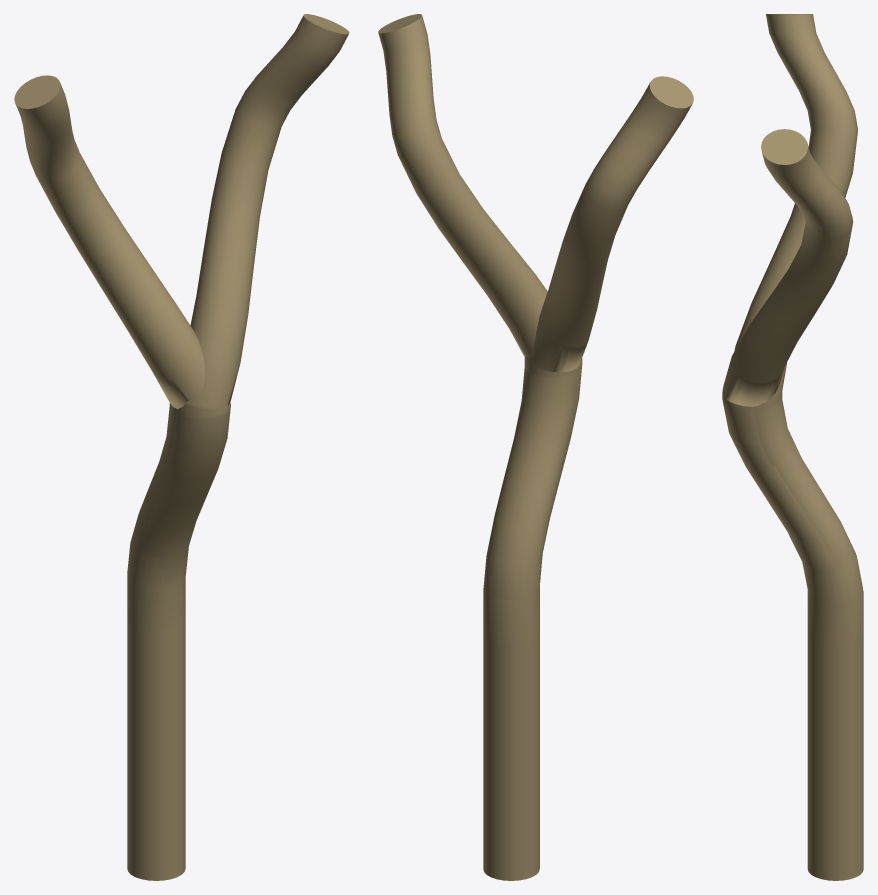
File: Slingshot.fbx
3 renders of one model, left to right at view 1: azimuth 30°, elevation 25°; view 2: azimuth 150°, elevation 25°; view 3: azimuth 270°, elevation 25°, orthographic. The views are drawn at different scales.
Visible parts, largest first — view 1: Loft001, Loft002; view 2: Loft001, Loft002; view 3: Loft002, Loft001.
Part boxes in pixels (box(x1,y1,x2,y2)): Loft001: box(14, 75, 205, 880); Loft002: box(140, 14, 349, 870); Loft001: box(487, 76, 693, 880); Loft002: box(378, 14, 582, 880); Loft002: box(722, 129, 863, 880); Loft001: box(734, 14, 862, 877).
Size of the model in its own units: 83.26 by 205 by 32.94.
